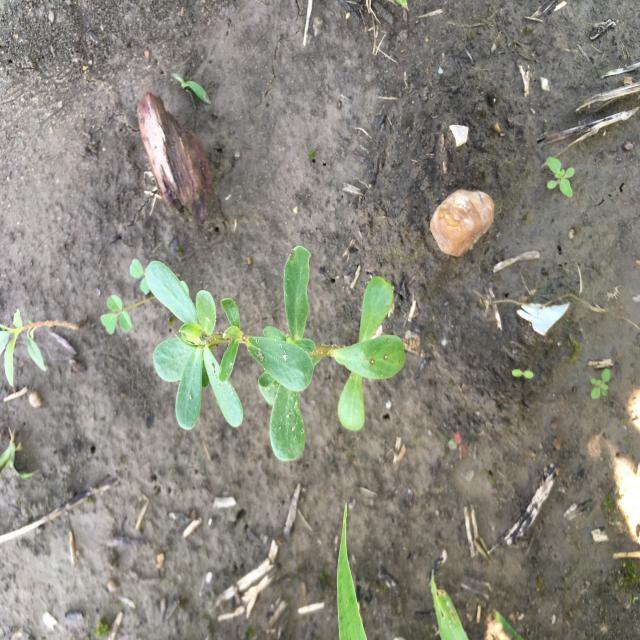Purslane: (144, 243, 407, 463)
